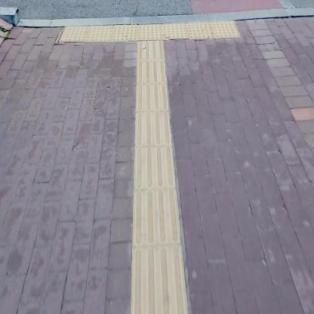Podoctatil: (130, 45, 187, 312), (61, 18, 242, 44)
